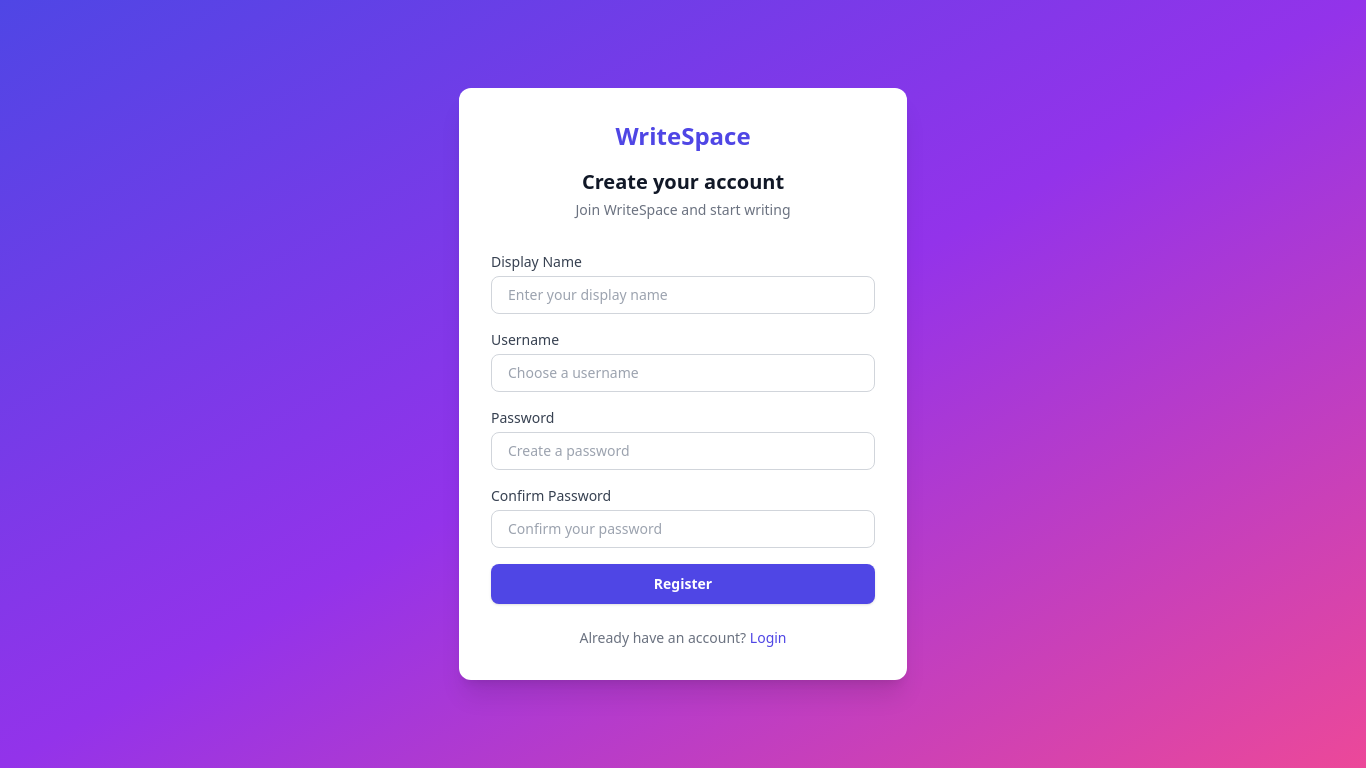
Test case: RegisterPage › validation: required fields › displays error when display name is empty
This screenshot has width=1366, height=768.
Step 1. Type "newuser" into the field labelled "Username" → (683, 373), box [491,354,875,392]
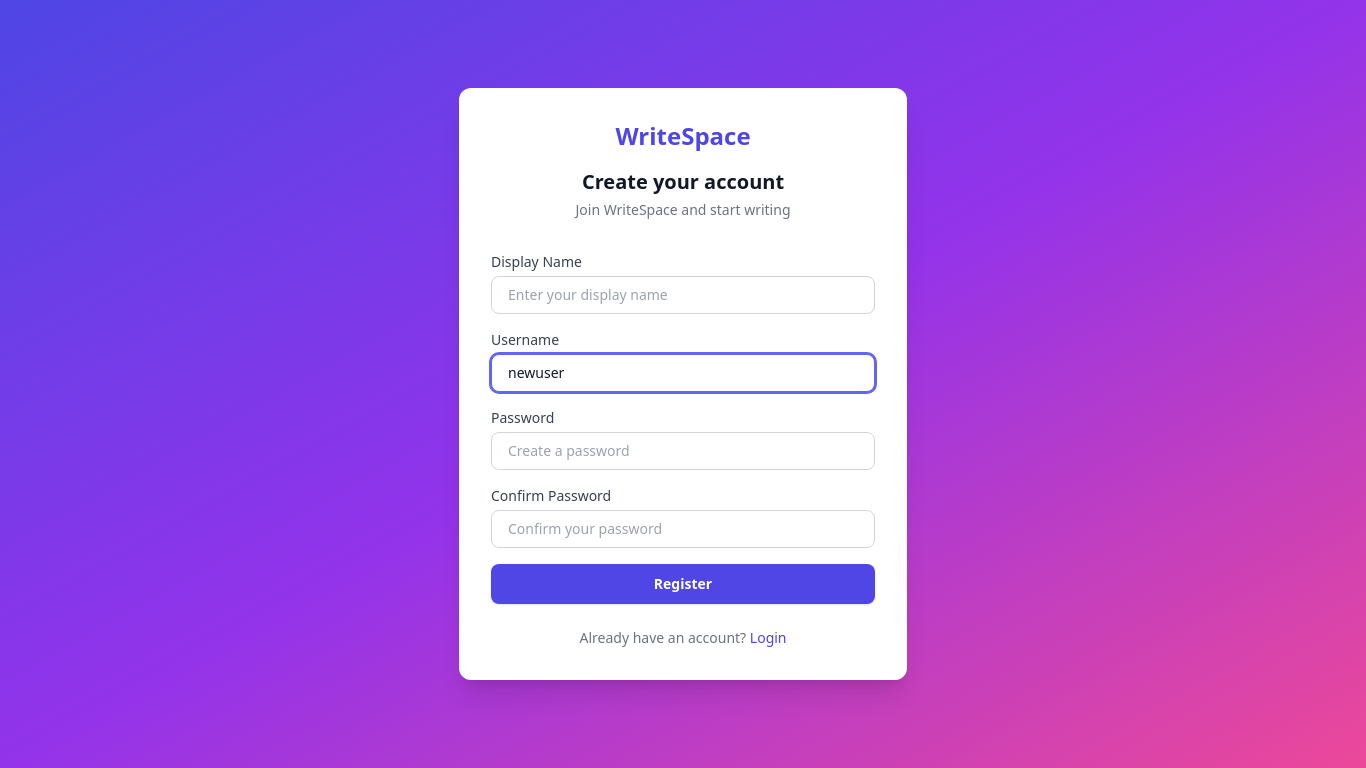
Step 2. Type "newpass" into the password field labelled "Password" → (683, 451), box [491,432,875,470]
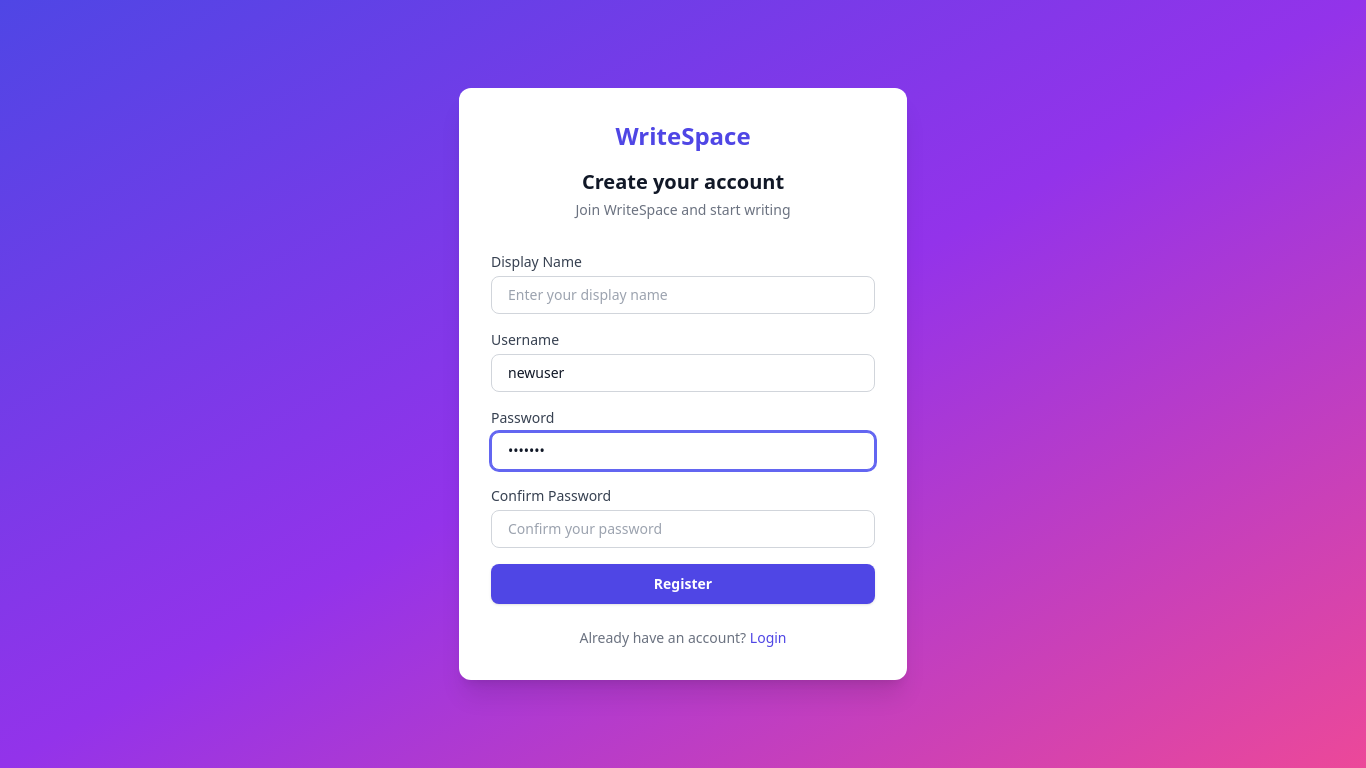
Step 3. Type "newpass" into the password field labelled "Confirm Password" → (683, 529), box [491,510,875,548]
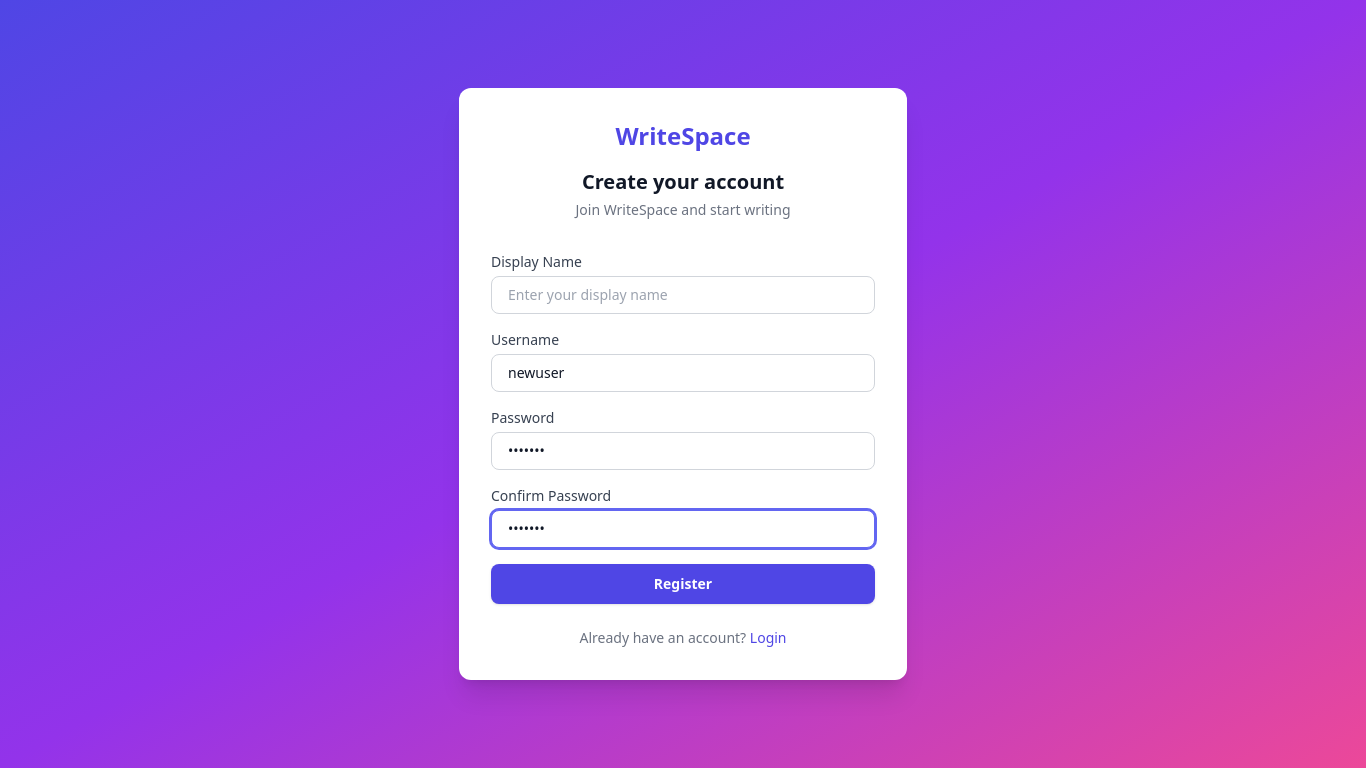
Step 4. Click the button "Register" → click(683, 584), box [491,564,875,604]
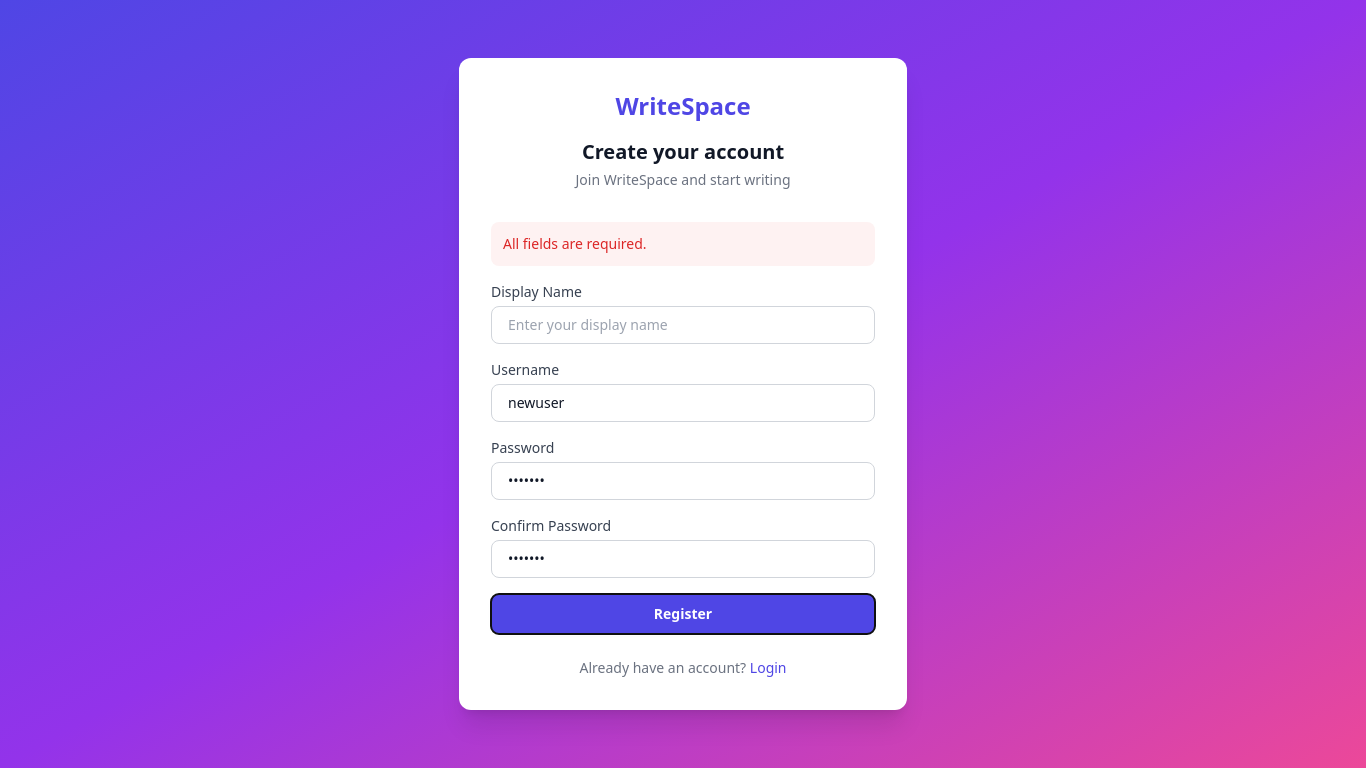
Check: the text "All fields are required." is shown, box [491,222,875,266]
